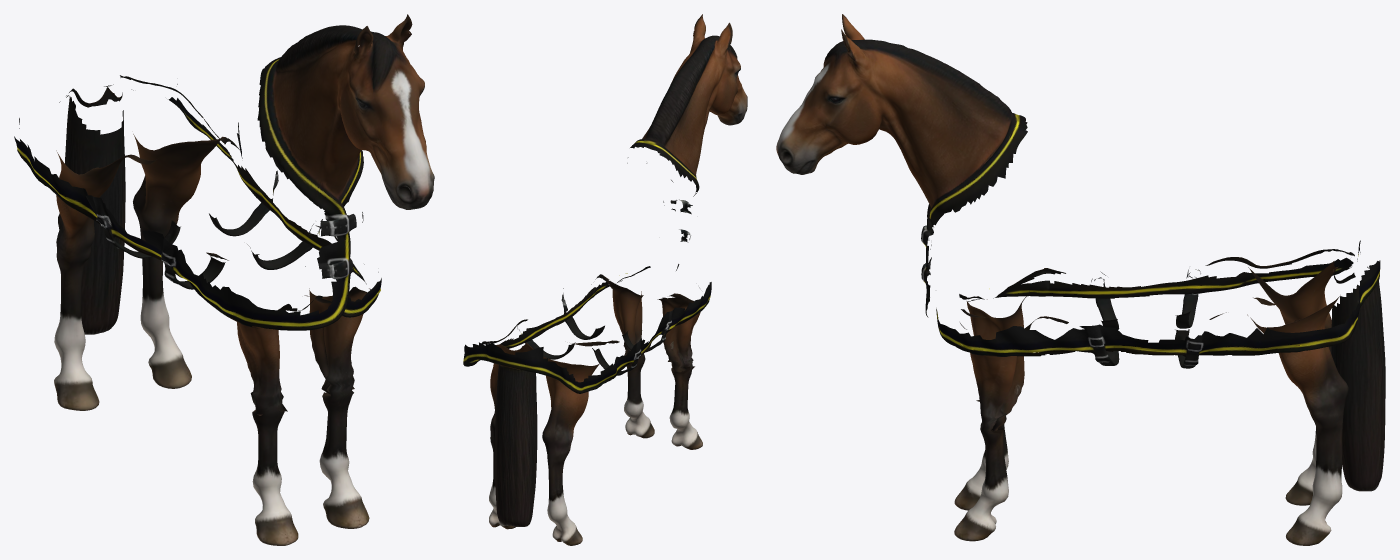
The model's file is horse-lightweight-rug.glb.
The picture shows the model from 3 angles, left to right: view 1: azimuth 30°, elevation 25°; view 2: azimuth 150°, elevation 25°; view 3: azimuth 270°, elevation 25°; orthographic projection. The views are drawn at different scales.
Visible parts, largest first — view 1: tripo_node_616bb127; view 2: tripo_node_616bb127; view 3: tripo_node_616bb127.
Part boxes in pixels (x1=…): tripo_node_616bb127: x1=14, y1=14, x2=434, y2=545; tripo_node_616bb127: x1=463, y1=14, x2=747, y2=545; tripo_node_616bb127: x1=776, y1=14, x2=1385, y2=545.
Bounding box in the file's own units: 0.6971 × 2.01 × 2.23.
Materials: 1 (1 with a texture image).
